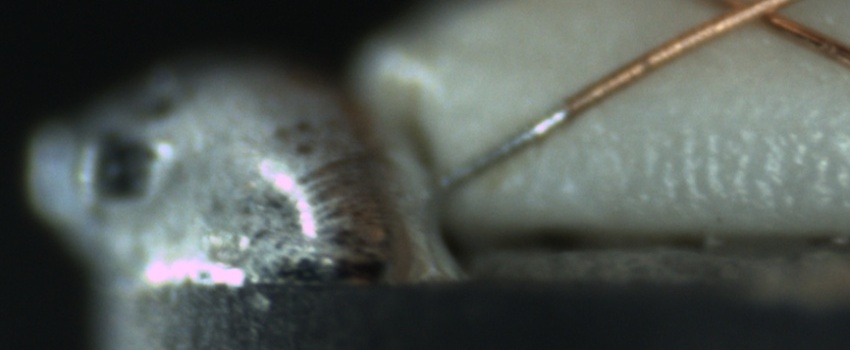CL: (689, 0, 802, 37)
DL: (637, 111, 850, 158)
TS: (435, 105, 570, 191)
